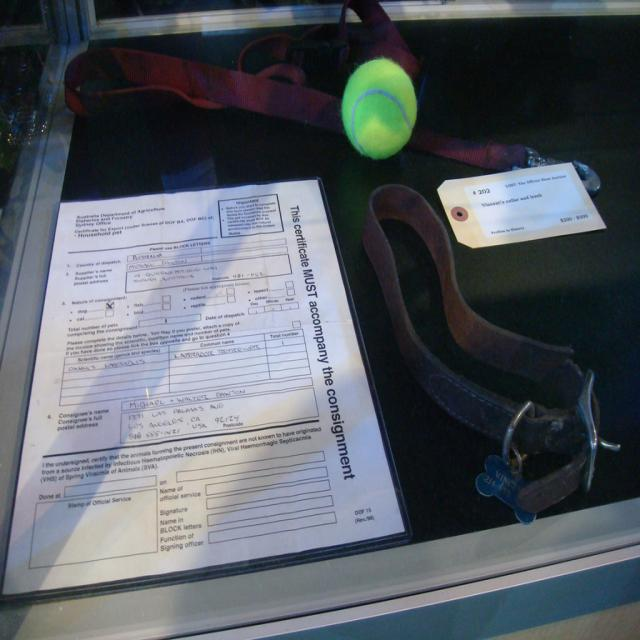Tennis-Ball: (340, 54, 419, 166)
